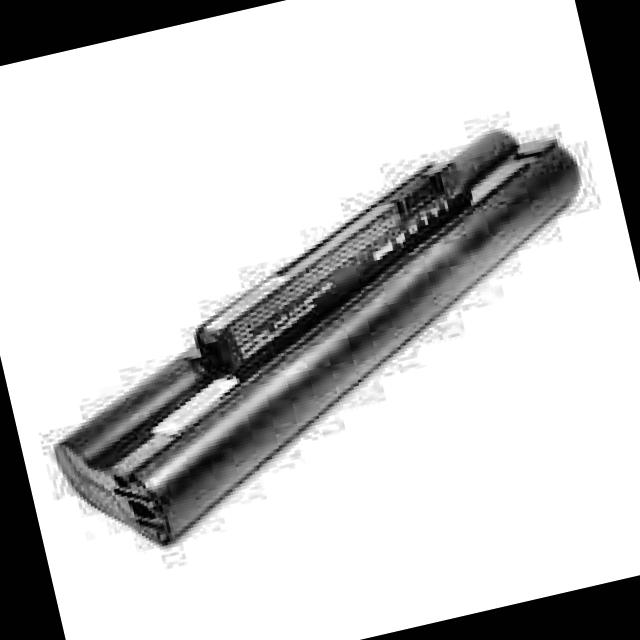Battery: (6, 116, 634, 564)
